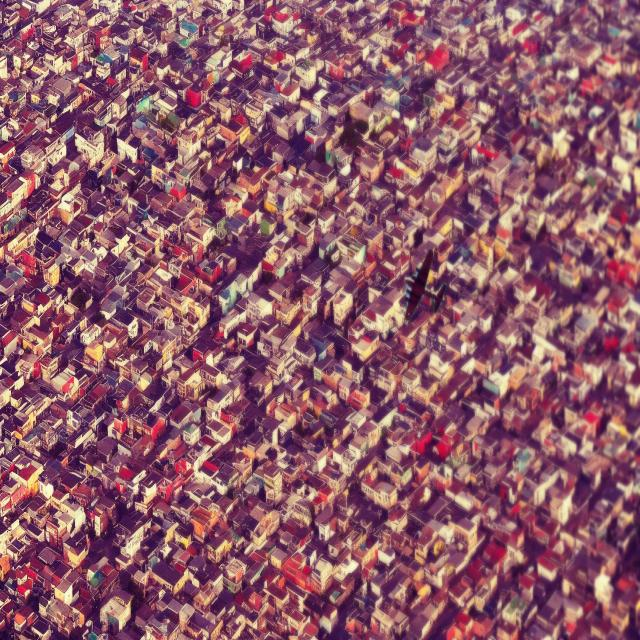airplane: (404, 249, 447, 321)
